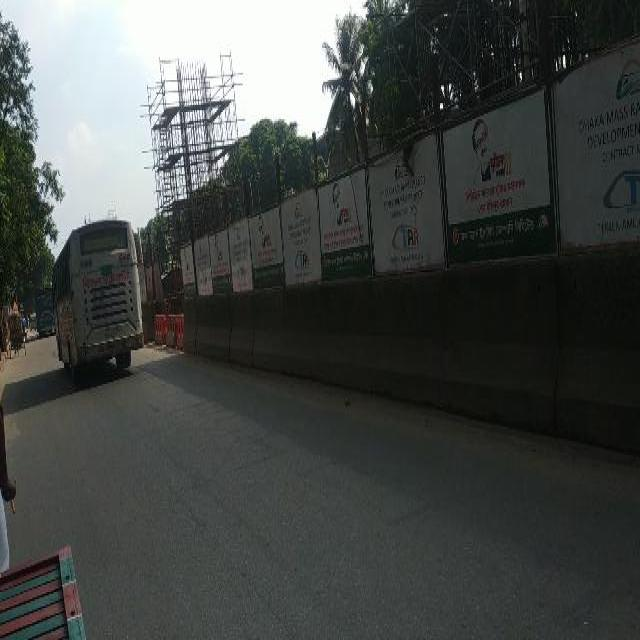bus: (54, 219, 144, 375), (35, 286, 55, 336)
rickshaw: (7, 310, 27, 358)
three wheelers -CNG-: (28, 310, 36, 330)
